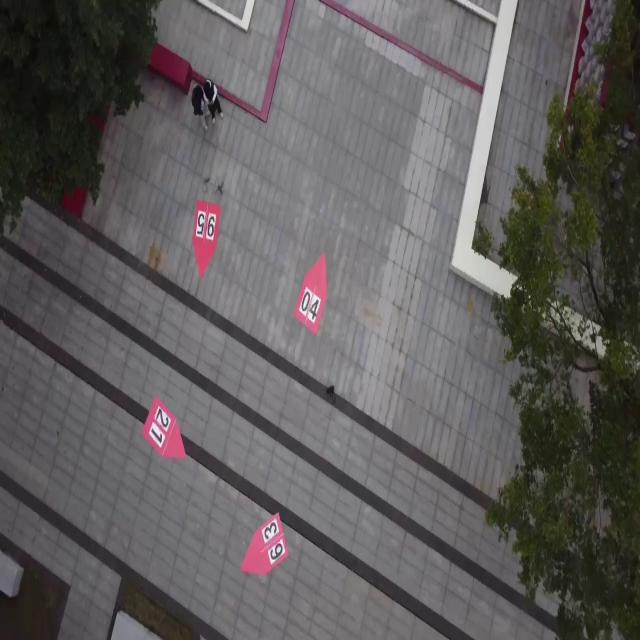-sign-: (241, 514, 290, 578), (142, 394, 188, 461), (294, 254, 329, 336), (192, 200, 220, 278)
